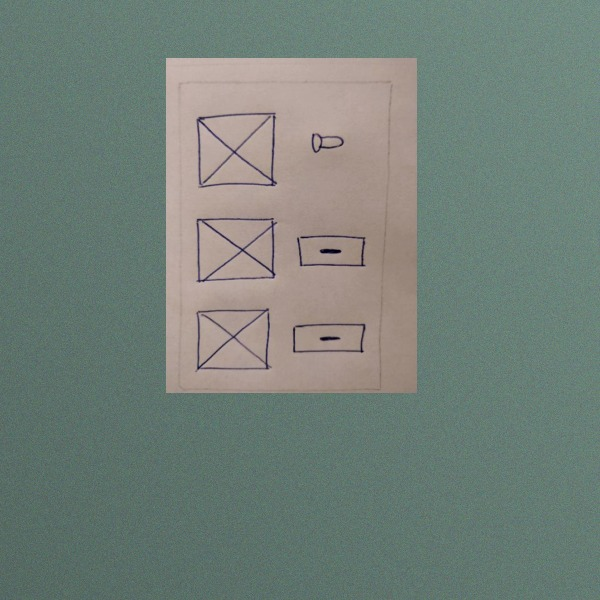button: (288, 319, 370, 360), (293, 230, 369, 273)
image: (191, 111, 283, 195), (191, 210, 283, 288), (192, 305, 274, 376)
switch: (308, 129, 347, 161)
